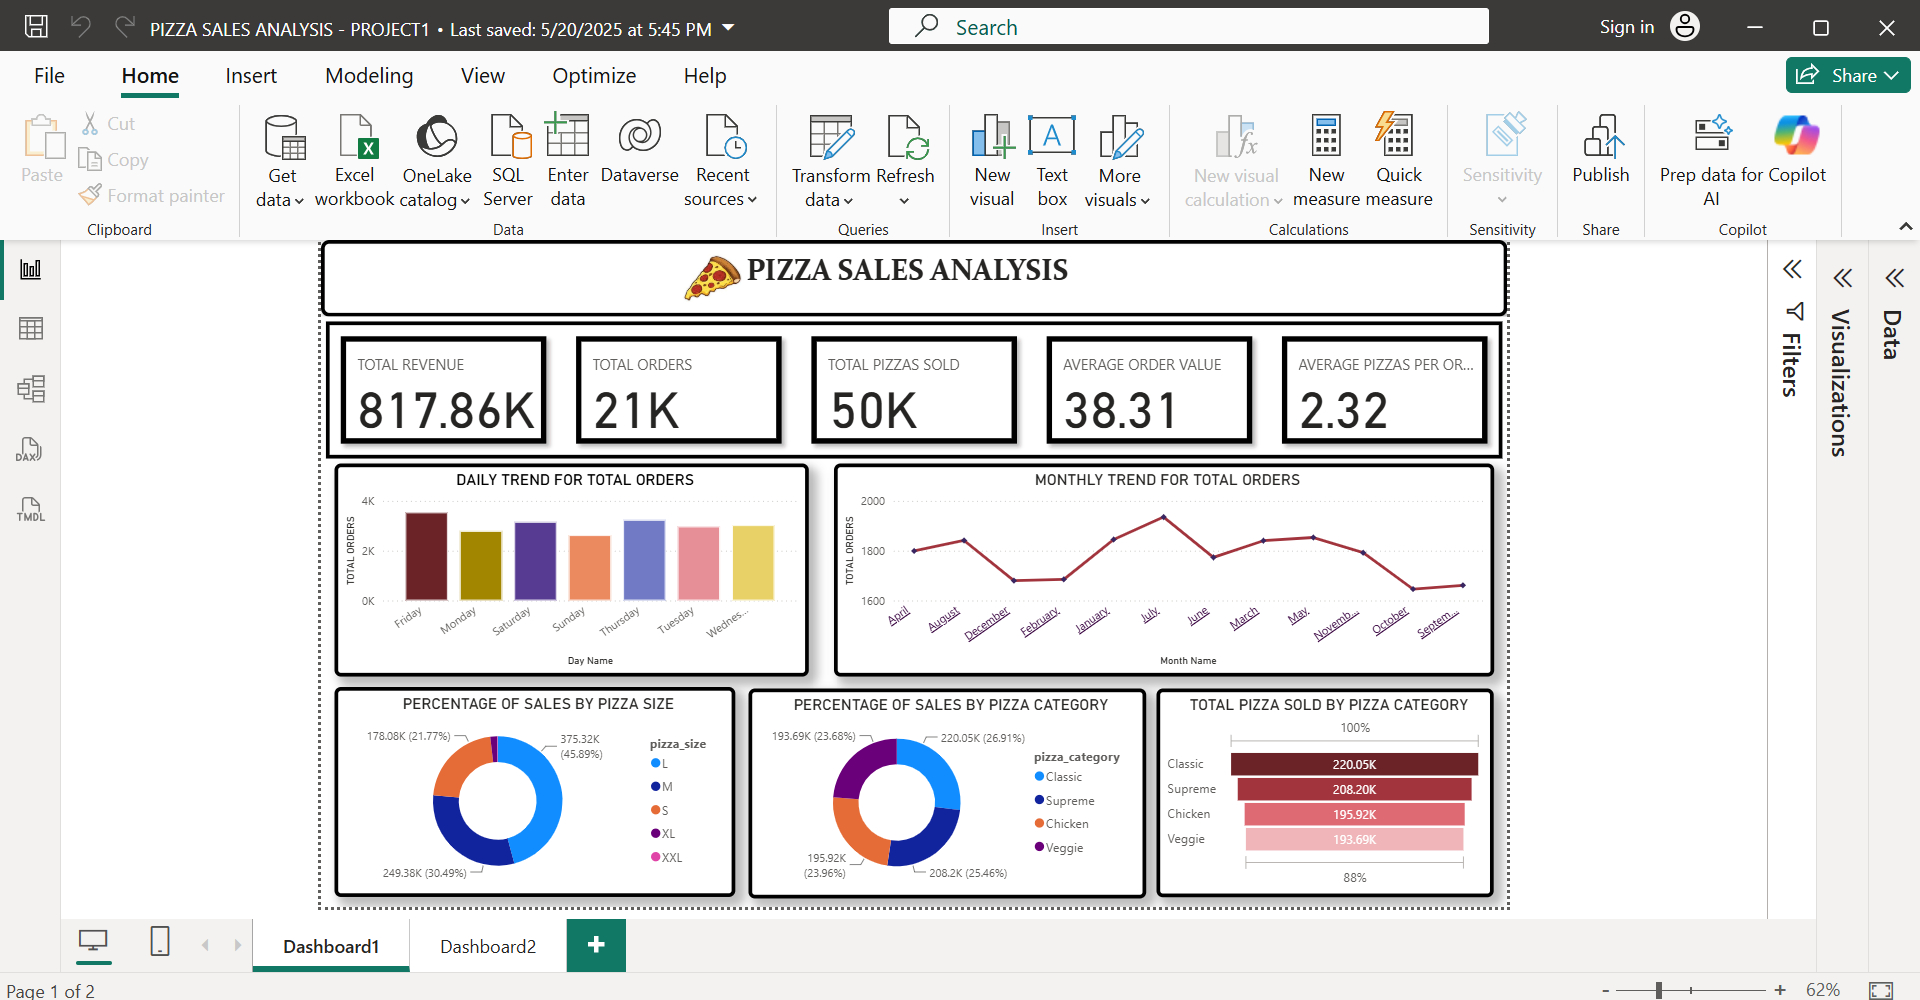

What the dashboard file says about the page in this screenshot:
{"tool":"powerbi","page":{"name":"Dashboard1","canvas":[1280,720],"ordinal":0},"visuals":[{"type":"textbox","box":[0,0,1280.8,82.6],"z":0},{"type":"image","box":[361.1,0,123.1,82.6],"z":1000},{"type":"cardVisual","fields":{"Data":["pizza_sales(1).TOTAL REVENUE","pizza_sales(1).TOTAL ORDERS","pizza_sales(1).TOTAL PIZZAS SOLD","pizza_sales(1).AVERAGE ORDER VALUE","pizza_sales(1).AVERAGE PIZZAS PER ORDER"]},"box":[0,82.6,1280.8,158.7],"z":2000},{"type":"columnChart","title":"DAILY TREND FOR TOTAL ORDERS","fields":{"Category":["pizza_sales(1).Day Name"],"Y":["pizza_sales(1).TOTAL ORDERS"]},"box":[14.6,241.3,511.7,229.9],"z":3000},{"type":"lineChart","title":"MONTHLY TREND FOR TOTAL ORDERS","fields":{"Category":["pizza_sales(1).Month Name"],"Y":["pizza_sales(1).TOTAL ORDERS"]},"box":[553.8,241.3,712.5,229.9],"z":4000},{"type":"donutChart","title":"PERCENTAGE OF SALES BY PIZZA CATEGORY","fields":{"Category":["pizza_sales(1).pizza_category"],"Y":["pizza_sales(1).TOTAL REVENUE"]},"box":[461.5,484.1,429.1,226.7],"z":5000},{"type":"donutChart","title":"PERCENTAGE OF SALES BY PIZZA SIZE","fields":{"Category":["pizza_sales(1).pizza_size"],"Y":["pizza_sales(1).TOTAL REVENUE"]},"box":[14.6,482.5,432.3,226.7],"z":6000},{"type":"funnel","title":"TOTAL PIZZA SOLD BY PIZZA CATEGORY","fields":{"Category":["pizza_sales(1).pizza_category"],"Y":["pizza_sales(1).TOTAL REVENUE"]},"box":[901.9,484.1,364.3,225.1],"z":7000}]}

Visuals, with their boxes on the page's 1280x720 design canvas (x1, y1, x2, y2). These are canvas units, not pixel positions in the 1920x1000 screenshot, which may show the page scaled, cropped or inside an application window:
textbox: bbox(0, 0, 1281, 83)
image: bbox(361, 0, 484, 83)
cardVisual - pizza_sales(1).TOTAL REVENUE x pizza_sales(1).TOTAL ORDERS: bbox(0, 83, 1281, 241)
"DAILY TREND FOR TOTAL ORDERS" columnChart: bbox(15, 241, 526, 471)
"MONTHLY TREND FOR TOTAL ORDERS" lineChart: bbox(554, 241, 1266, 471)
"PERCENTAGE OF SALES BY PIZZA CATEGORY" donutChart: bbox(462, 484, 891, 711)
"PERCENTAGE OF SALES BY PIZZA SIZE" donutChart: bbox(15, 482, 447, 709)
"TOTAL PIZZA SOLD BY PIZZA CATEGORY" funnel: bbox(902, 484, 1266, 709)
